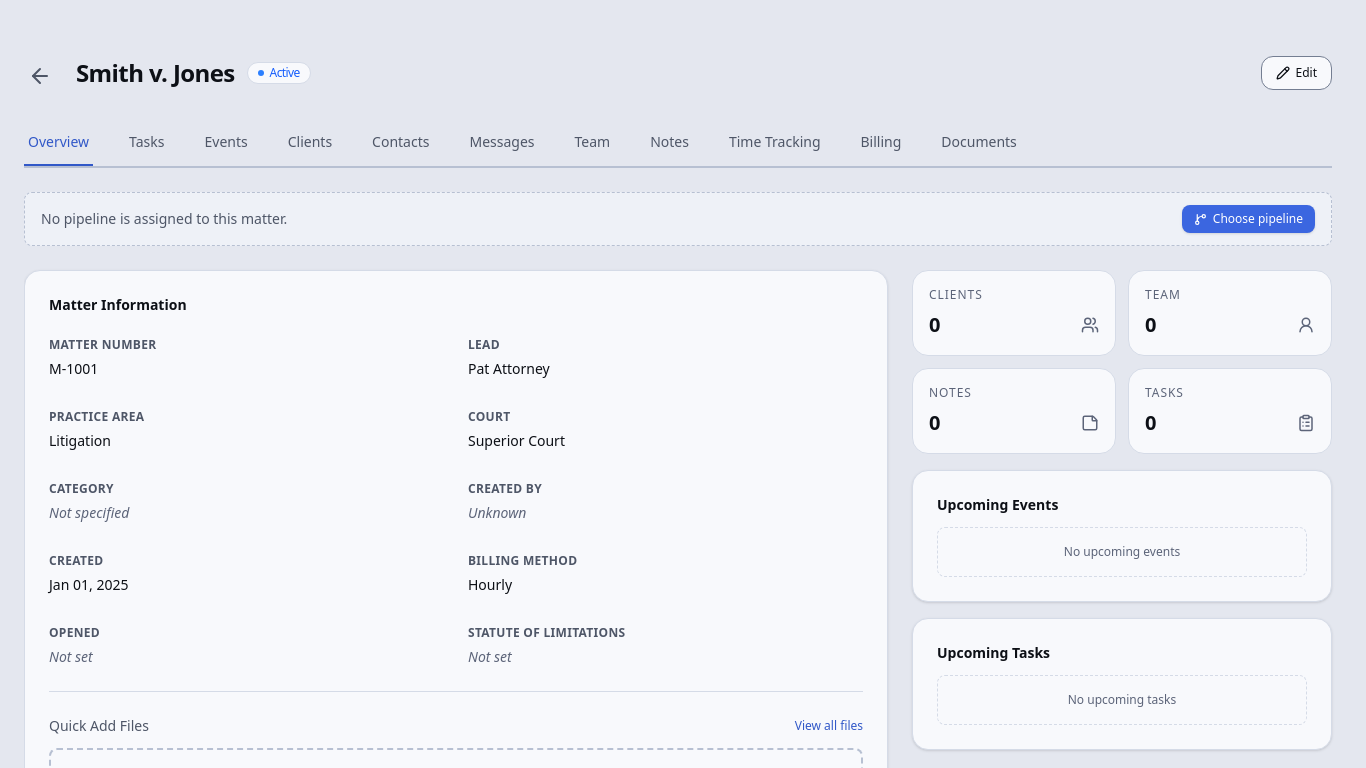
Scenario: the Tasks tab's New Task button › opens the create-task modal and posts the new task against this matter
Expected: the heading "Smith v. Jones Active" is shown, [76,56,311,89]
Click the button "Tasks" at (147, 143), box [125,120,168,166]
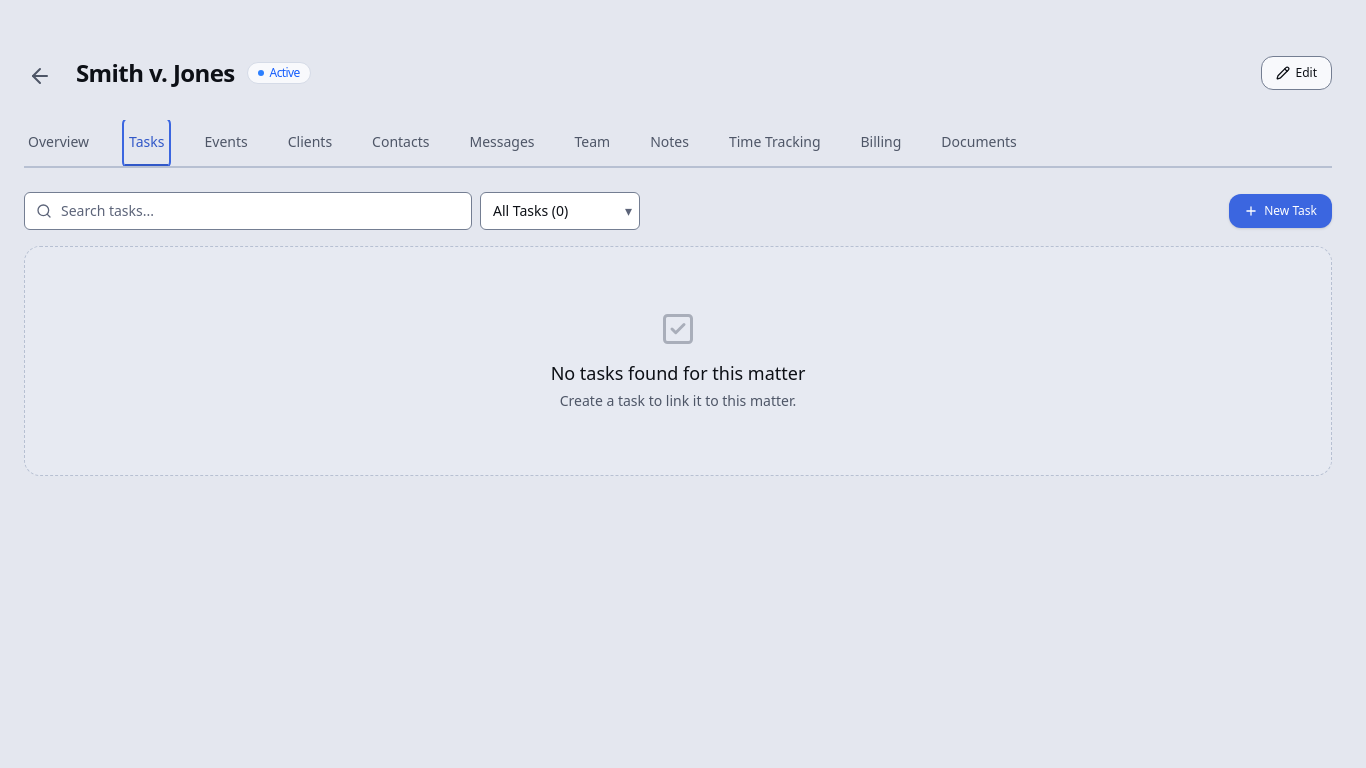
Click the button "New Task" at (1281, 211), box [1229,194,1332,228]
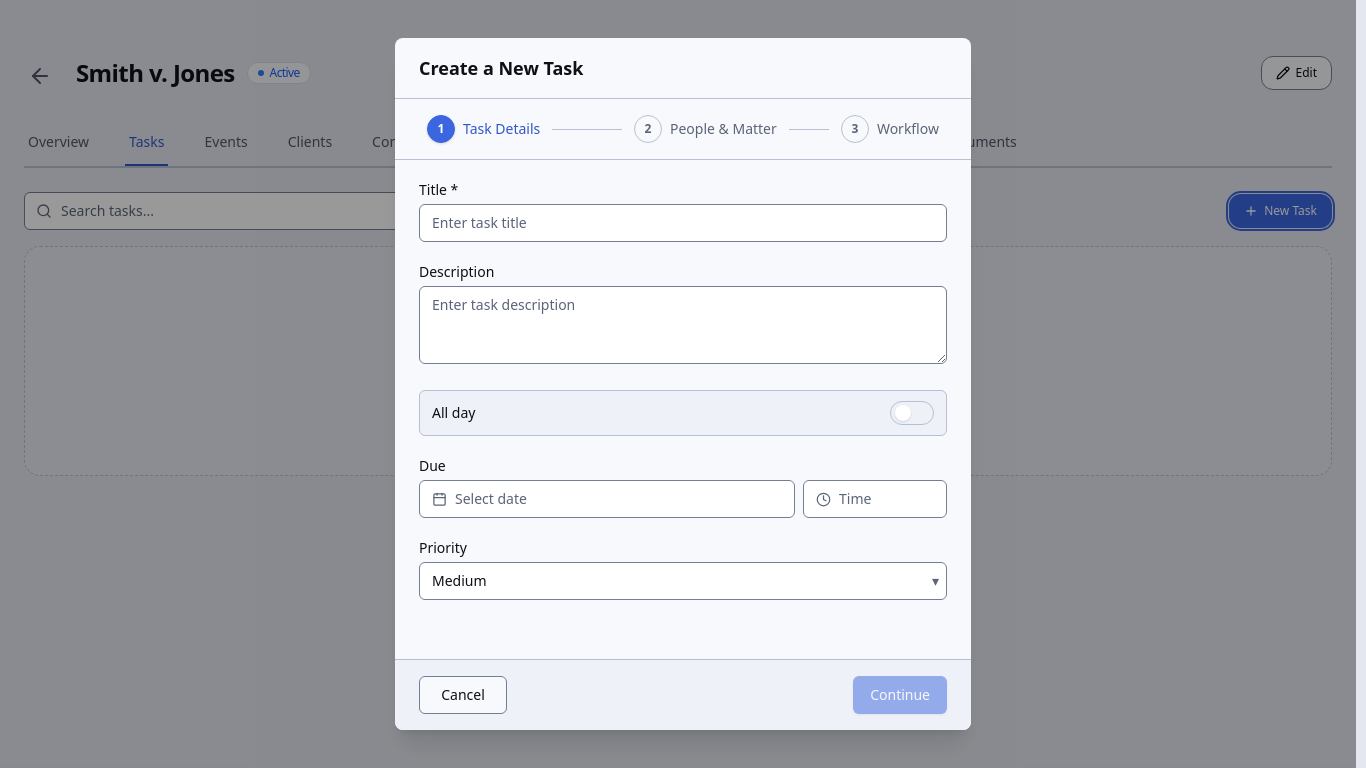
Type "Serve interrogatories" into the field labelled "Title *" at (683, 223), box [419,204,947,242]
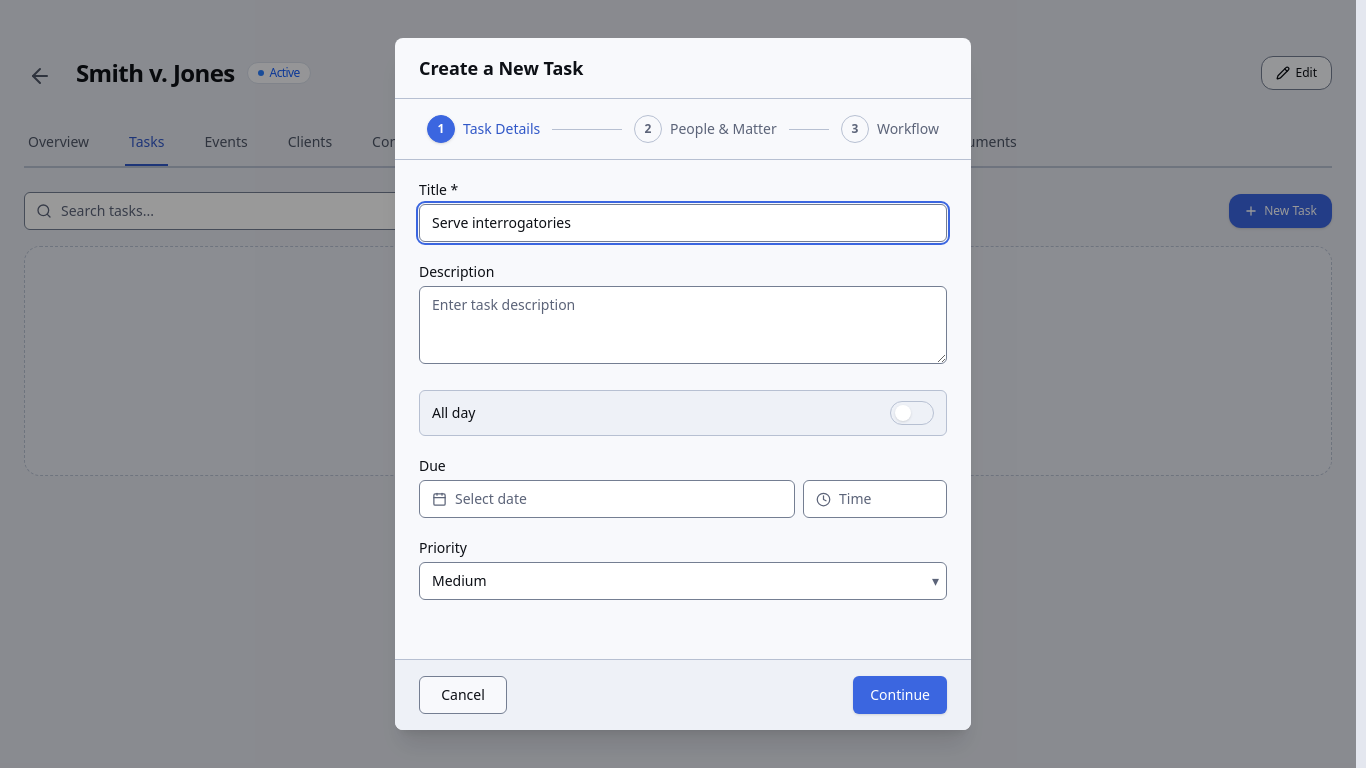
Click the button "Continue" at (900, 695), box [853,676,947,714]
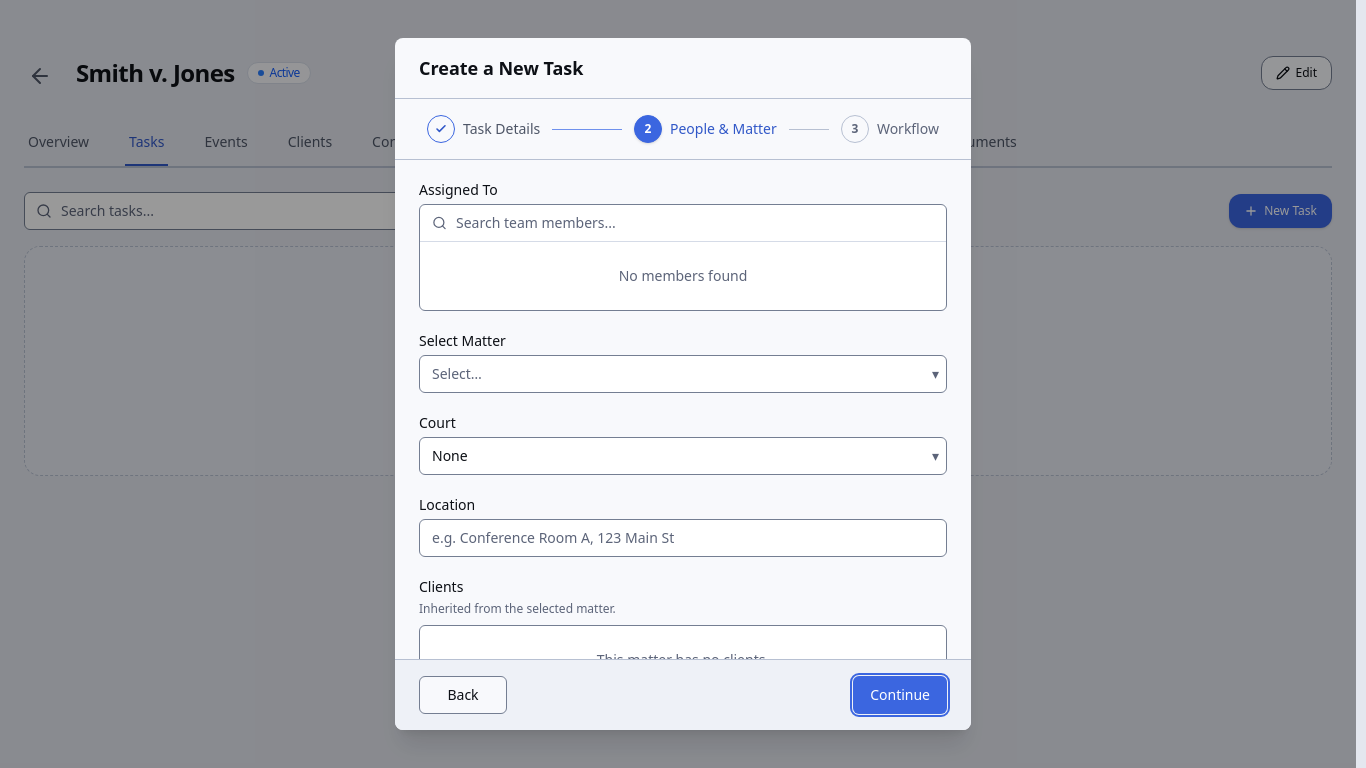
Click the button "Continue" at (900, 695), box [853,676,947,714]
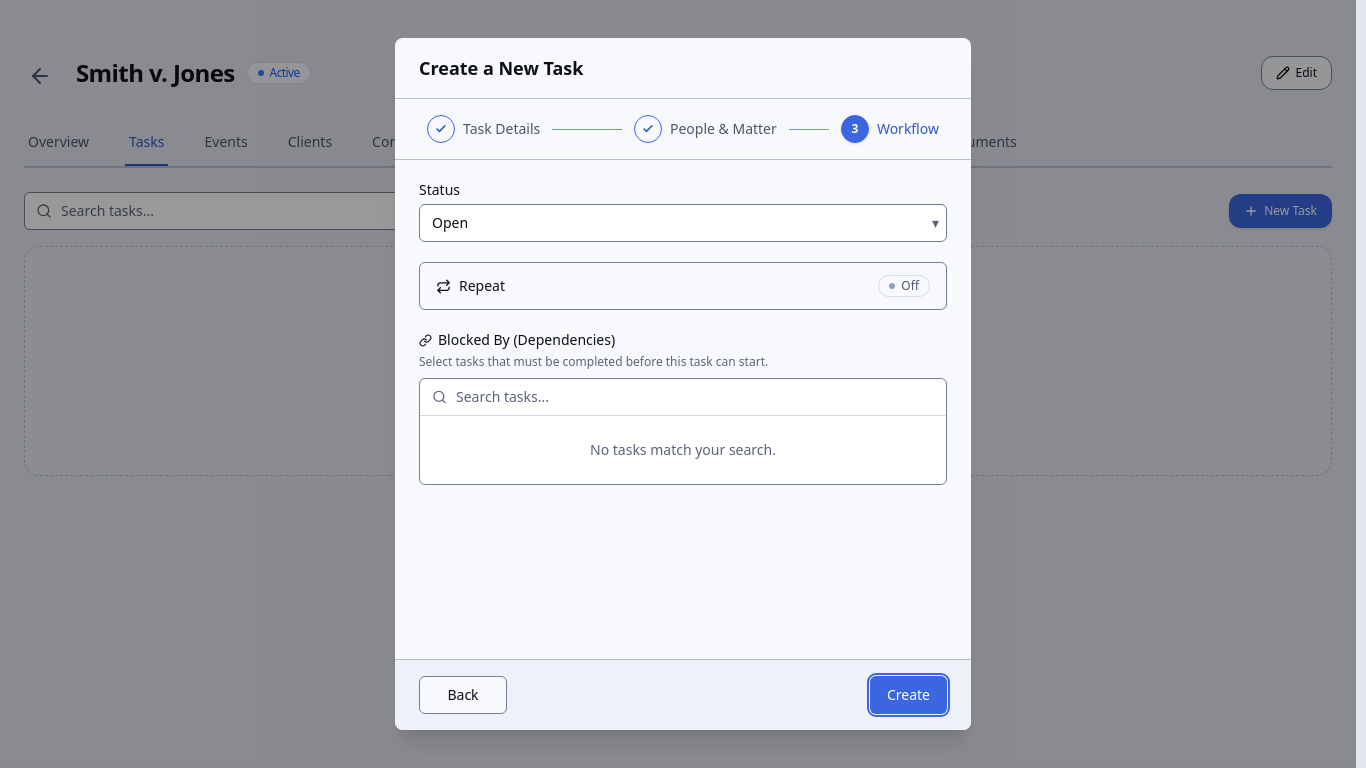
Click the button "Create" at (908, 695), box [870,676,947,714]
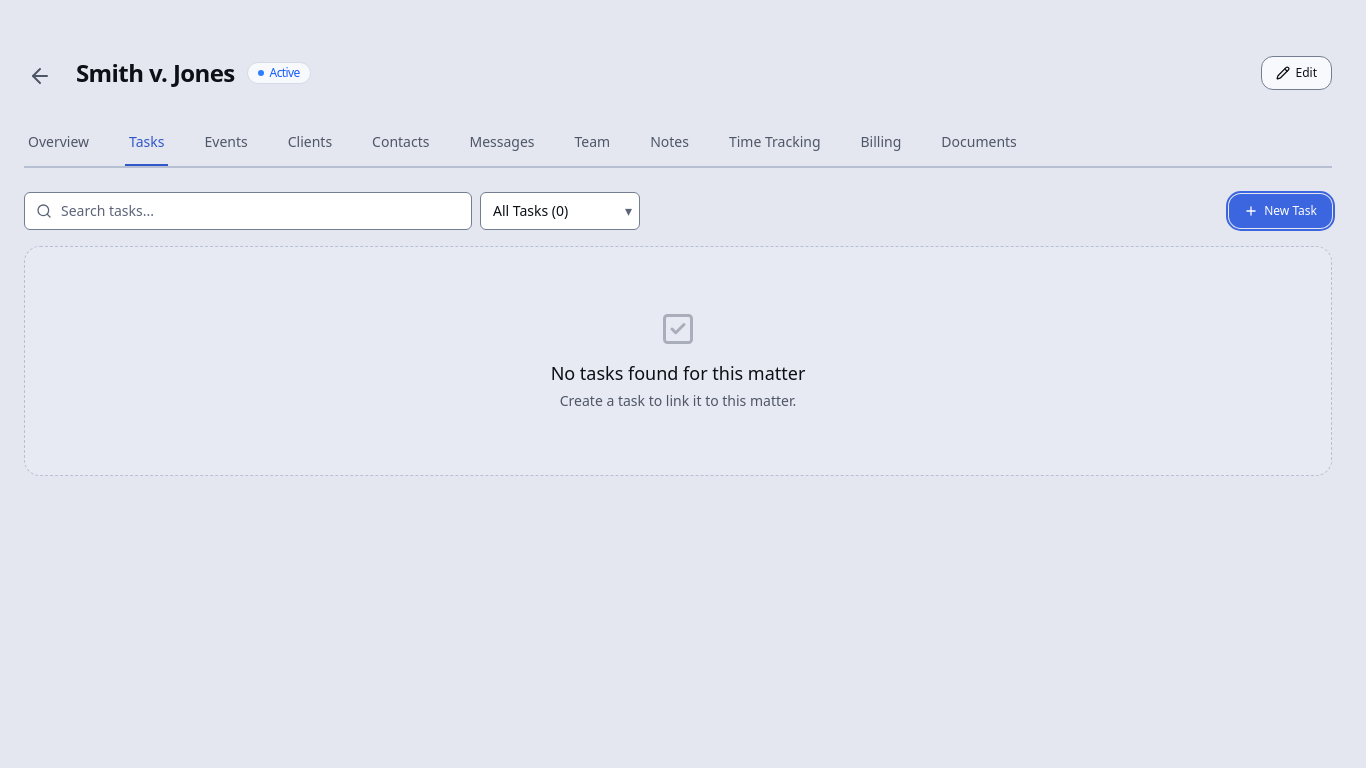
Now the heading "Create a New Task" is gone
